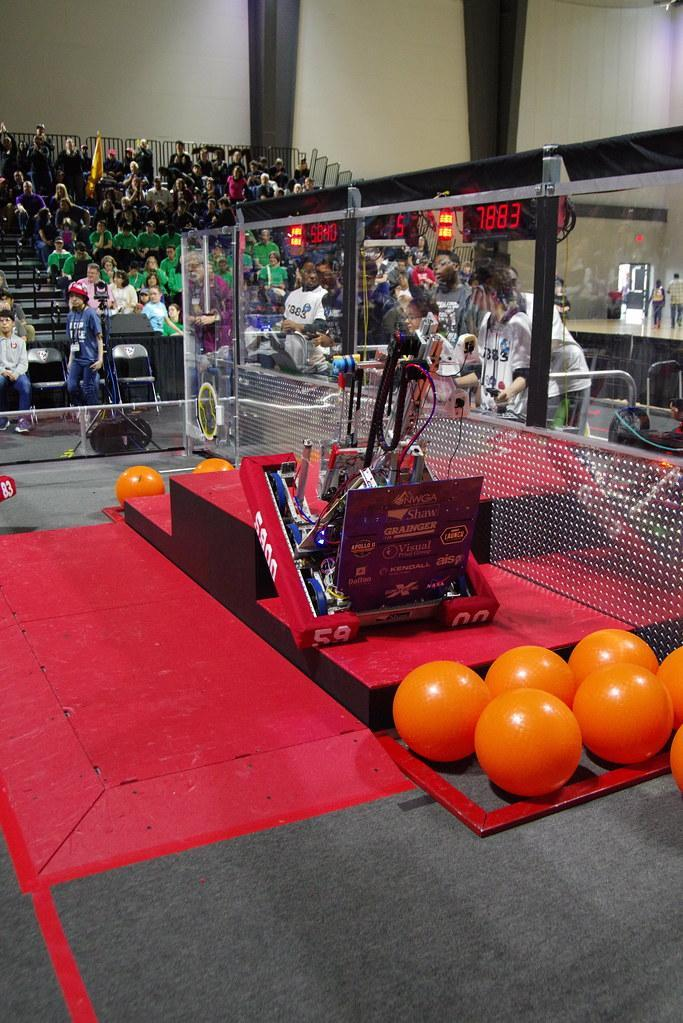robot: (232, 292, 512, 652)
